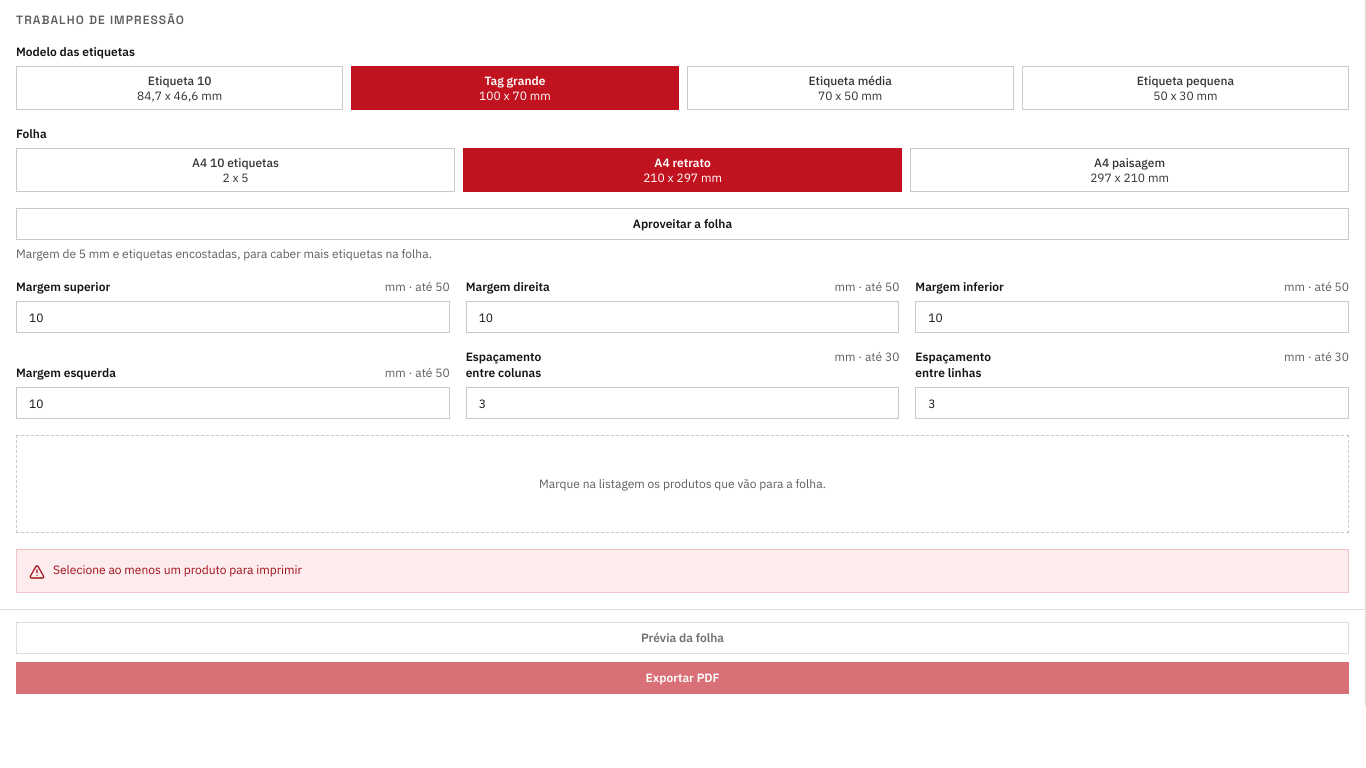
Test: aproveitar a folha › volta as margens do modelo no clique seguinte
The width and height of the screenshot is (1366, 768).
Click the button "Aproveitar a folha" at x=682, y=224, box [16,208,1349,240]
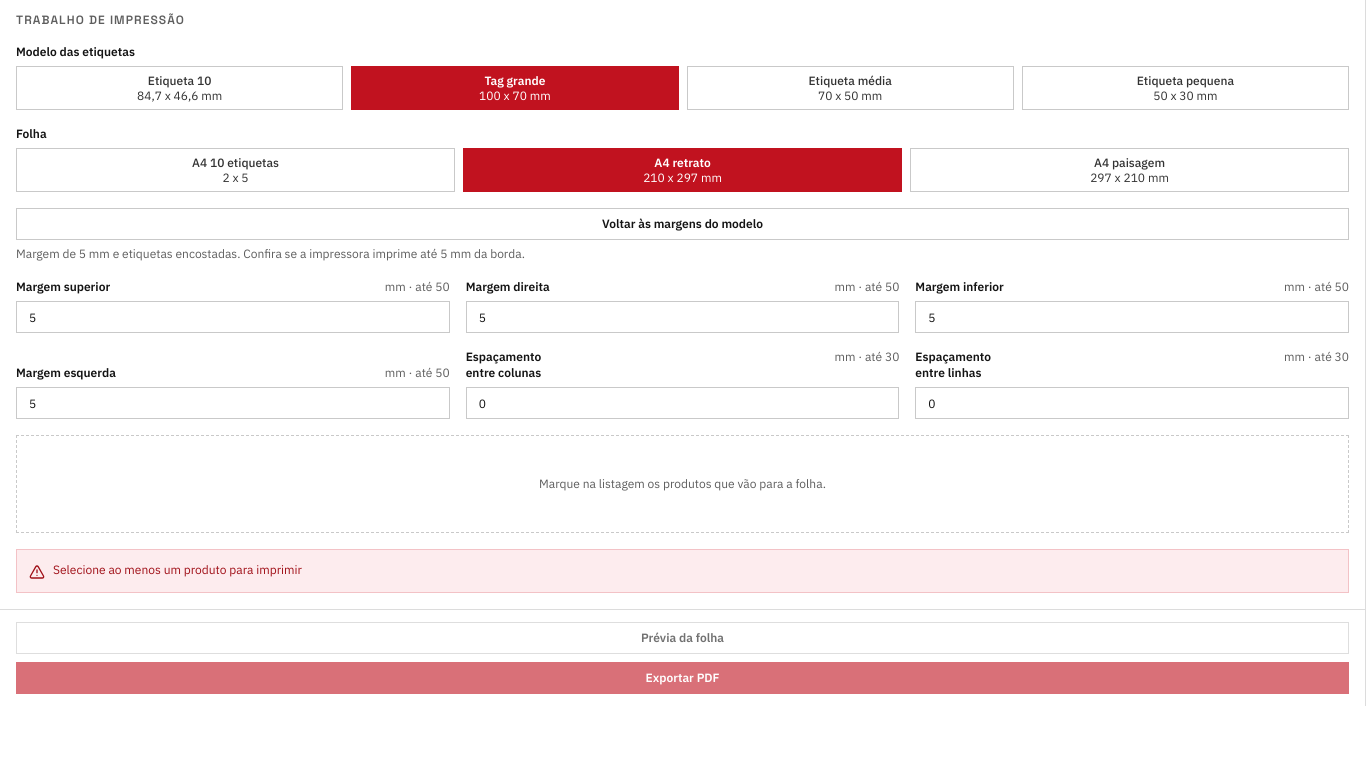
Now the button "Voltar às margens do modelo" is shown
Click the button "Voltar às margens do modelo" at x=682, y=224, box [16,208,1349,240]
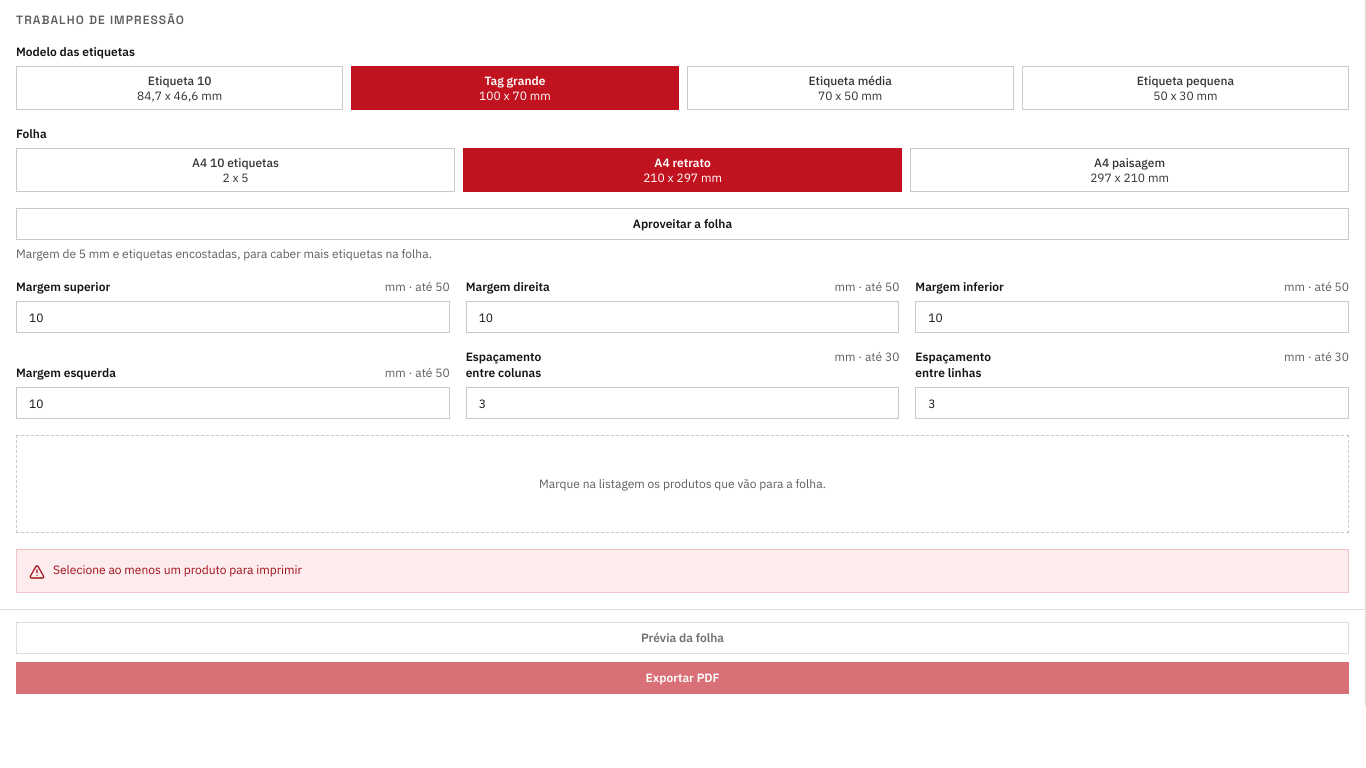
Now the field with id "folha-marginTopMm" holds "10", box [16,301,450,333]
Now the field with id "folha-columnGapMm" holds "3", box [466,387,899,419]
Now the button "Aproveitar a folha" is shown, box [16,208,1349,240]
